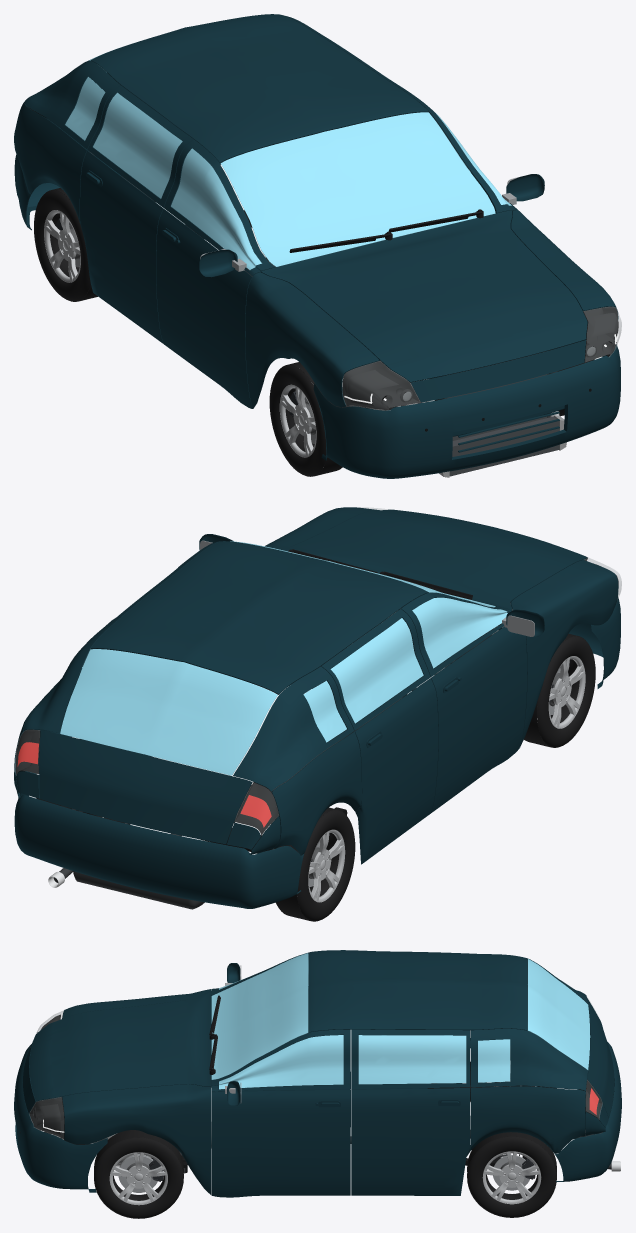
File: car-lite.glb
3 renders of one model, top to bottom at view 1: azimuth 30°, elevation 25°; view 2: azimuth 150°, elevation 25°; view 3: azimuth 270°, elevation 25°, orthographic. The views are drawn at different scales.
Parts seen in each view (by area): view 1: mesh__hauba__main__0, body__structure__upper, mesh__stakla__windshield__0, mesh__branici__front__0, mesh__vrata__fr__0, mesh__vrata__rr__0, mesh__stakla__side__0, mesh__blatobrani__r__0, mesh__felne-gume__fr__0, mesh__felne-gume__rr__0, body__structure__right, mesh__blatobrani__l__0 (+8 smaller); view 2: body__structure__upper, mesh__stakla__rear__0, mesh__branici__rear__0, body__structure__rear, mesh__hauba__main__0, mesh__vrata__fr__0, mesh__vrata__rr__0, mesh__stakla__side__0, mesh__blatobrani__r__0, body__structure__right, mesh__felne-gume__fr__0, mesh__felne-gume__rr__0 (+7 smaller); view 3: body__structure__upper, mesh__vrata__fl__0, mesh__hauba__main__0, mesh__vrata__rl__0, mesh__stakla__side__0, mesh__blatobrani__l__0, mesh__stakla__windshield__0, body__structure__left, mesh__felne-gume__fl__0, mesh__felne-gume__rl__0, mesh__branici__front__0, mesh__stakla__rear__0 (+9 smaller).
Part boxes in pixels (<box>): mesh__hauba__main__0: <box>261,210,587,382</box>; body__structure__upper: <box>23,14,428,162</box>; mesh__stakla__windshield__0: <box>220,112,495,266</box>; mesh__branici__front__0: <box>313,340,620,478</box>; mesh__vrata__fr__0: <box>156,139,275,408</box>; mesh__vrata__rr__0: <box>80,85,193,343</box>; mesh__stakla__side__0: <box>65,77,511,269</box>; mesh__blatobrani__r__0: <box>245,272,379,408</box>; mesh__felne-gume__fr__0: <box>269,362,349,476</box>; mesh__felne-gume__rr__0: <box>34,188,97,301</box>; body__structure__right: <box>14,103,87,223</box>; mesh__blatobrani__l__0: <box>511,210,618,320</box>; body__structure__upper: <box>23,541,428,791</box>; mesh__stakla__rear__0: <box>60,649,277,775</box>; mesh__branici__rear__0: <box>14,793,303,908</box>; body__structure__rear: <box>14,730,280,854</box>; mesh__hauba__main__0: <box>276,509,587,610</box>; mesh__vrata__fr__0: <box>401,592,526,812</box>; mesh__vrata__rr__0: <box>321,609,438,864</box>; mesh__stakla__side__0: <box>82,597,507,742</box>; mesh__blatobrani__r__0: <box>511,560,618,747</box>; body__structure__right: <box>272,731,361,855</box>; mesh__felne-gume__fr__0: <box>524,633,595,747</box>; mesh__felne-gume__rr__0: <box>276,807,355,921</box>; body__structure__upper: <box>308,950,587,1090</box>; mesh__vrata__fl__0: <box>211,1029,350,1197</box>; mesh__hauba__main__0: <box>29,990,211,1101</box>; mesh__vrata__rl__0: <box>351,1029,470,1195</box>; mesh__stakla__side__0: <box>219,954,510,1089</box>; mesh__blatobrani__l__0: <box>62,1084,211,1194</box>; mesh__stakla__windshield__0: <box>211,953,308,1079</box>; body__structure__left: <box>470,1086,585,1153</box>; mesh__felne-gume__fl__0: <box>94,1130,183,1218</box>; mesh__felne-gume__rl__0: <box>467,1132,556,1217</box>; mesh__branici__front__0: <box>14,1037,107,1192</box>; mesh__stakla__rear__0: <box>527,959,590,1069</box>.
Bounding box in the file's own units: 2.17 × 1.45 × 4.27.
